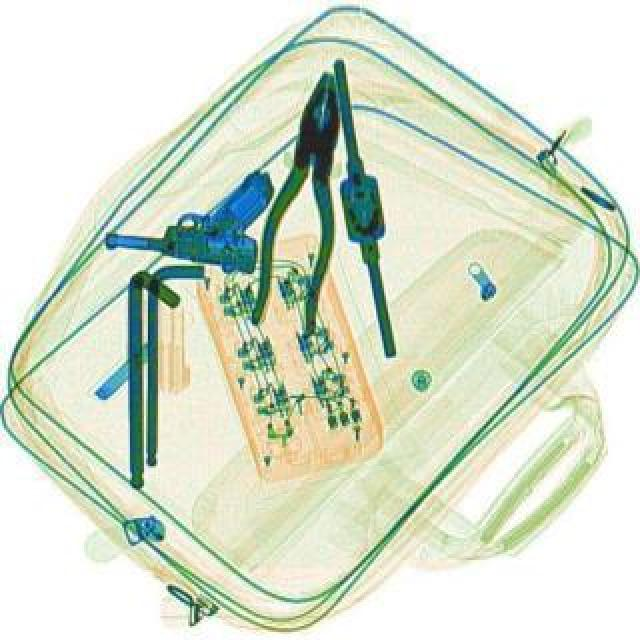gun: (102, 154, 274, 274)
wrench: (240, 66, 364, 338)
